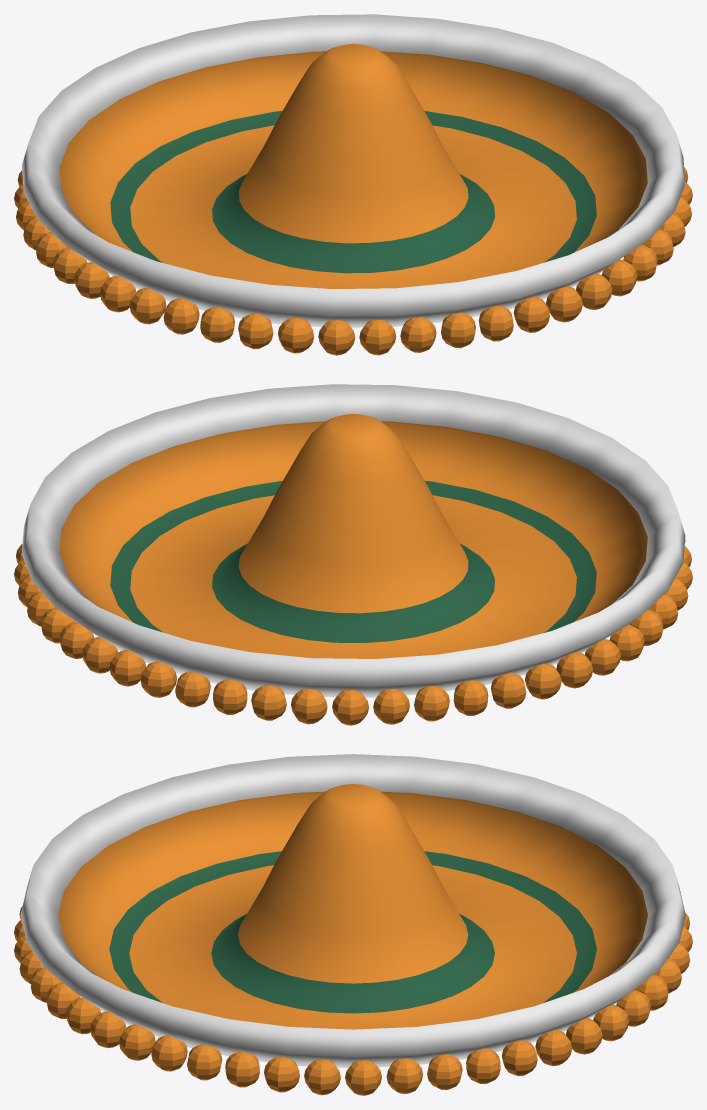
Rendered from Sambrero.fbx.
3 views of the same model, one above another, from view 1: azimuth 30°, elevation 25°; view 2: azimuth 150°, elevation 25°; view 3: azimuth 270°, elevation 25° (orthographic).
Parts seen in each view (by area): view 1: Sambrero; view 2: Sambrero; view 3: Sambrero.
Boxes of the visible parts, x1,y1,x2,y2 form: Sambrero: (14,14,692,355); Sambrero: (14,384,692,725); Sambrero: (14,754,692,1095).
Bounding box in the file's own units: 110 × 29.59 × 110.
